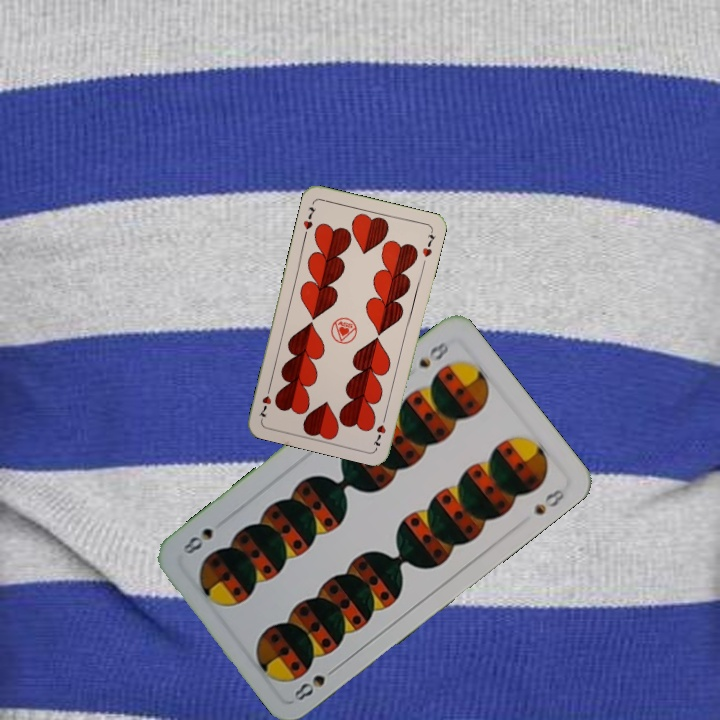H7: (369, 410, 389, 449), (299, 203, 319, 239)
S8: (289, 671, 328, 704), (414, 337, 451, 371)
